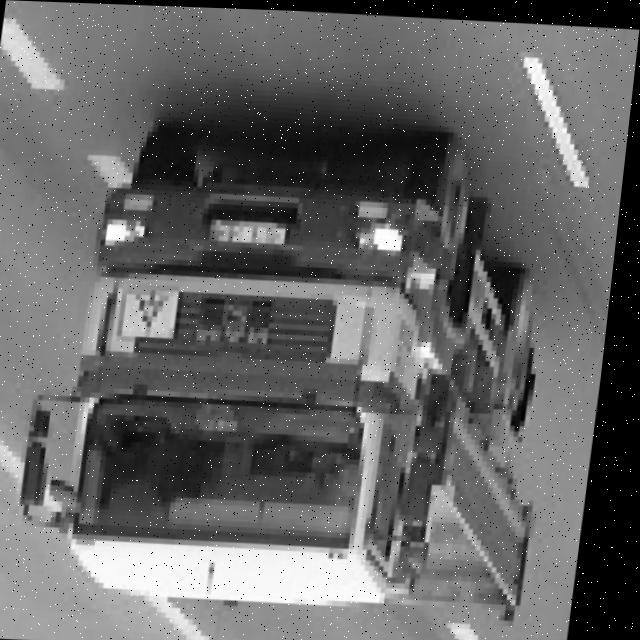truck: (25, 121, 517, 632)
